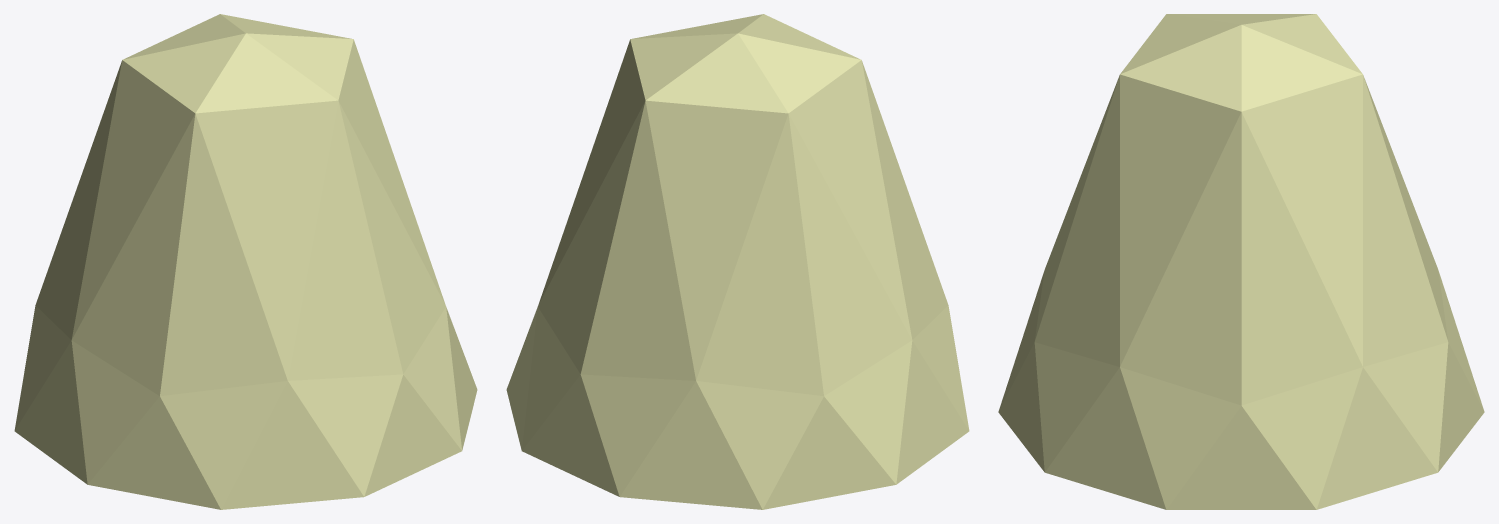
Rendered from stenen9.fbx.
3 views of the same model, side by side, from view 1: azimuth 30°, elevation 25°; view 2: azimuth 150°, elevation 25°; view 3: azimuth 270°, elevation 25° (orthographic). The views are drawn at different scales.
Parts seen in each view (by area): view 1: Icosphere.009; view 2: Icosphere.009; view 3: Icosphere.009.
Part boxes in pixels (x1=…): Icosphere.009: x1=14, y1=14, x2=477, y2=509; Icosphere.009: x1=506, y1=14, x2=969, y2=509; Icosphere.009: x1=998, y1=14, x2=1484, y2=509.
Size of the model in its own units: 190 by 176 by 200.
